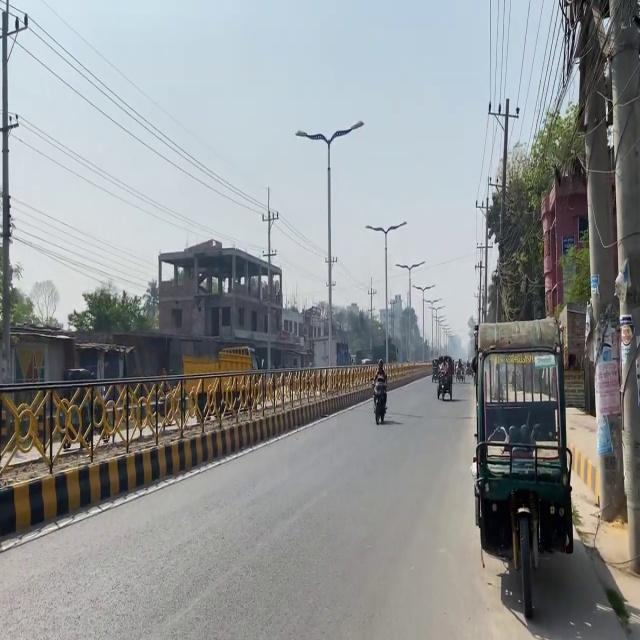Fallen-tree: (371, 377, 388, 424), (435, 369, 452, 400)
Garbage-bin: (372, 358, 387, 411)
Light-pole: (605, 0, 639, 574)
Pole: (0, 368, 220, 514)
Pothole: (564, 404, 639, 635)
Traffic-cone: (471, 316, 574, 618), (181, 345, 261, 417), (556, 302, 585, 371)
